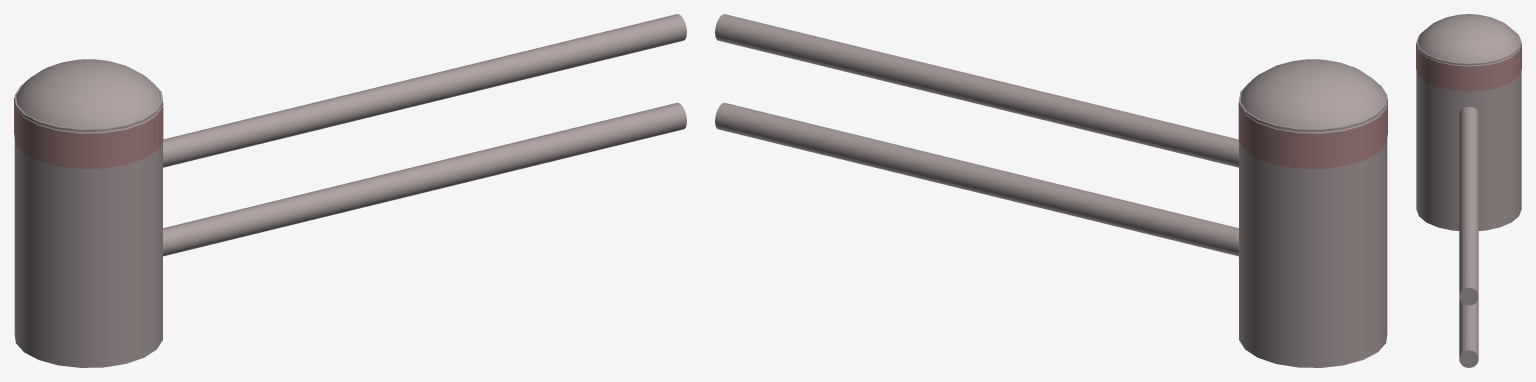
The model's file is road chode 2.fbx.
The picture shows the model from 3 angles, left to right: view 1: azimuth 30°, elevation 25°; view 2: azimuth 150°, elevation 25°; view 3: azimuth 270°, elevation 25°; orthographic projection. The views are drawn at different scales.
Parts seen in each view (by area): view 1: pCylinder6; view 2: pCylinder6; view 3: pCylinder6.
Boxes of the visible parts, x1,y1,x2,y2 form: pCylinder6: [14, 14, 686, 367]; pCylinder6: [715, 14, 1387, 367]; pCylinder6: [1416, 14, 1521, 367].
Size of the model in its own units: 6.37 by 2.47 by 1.26.
